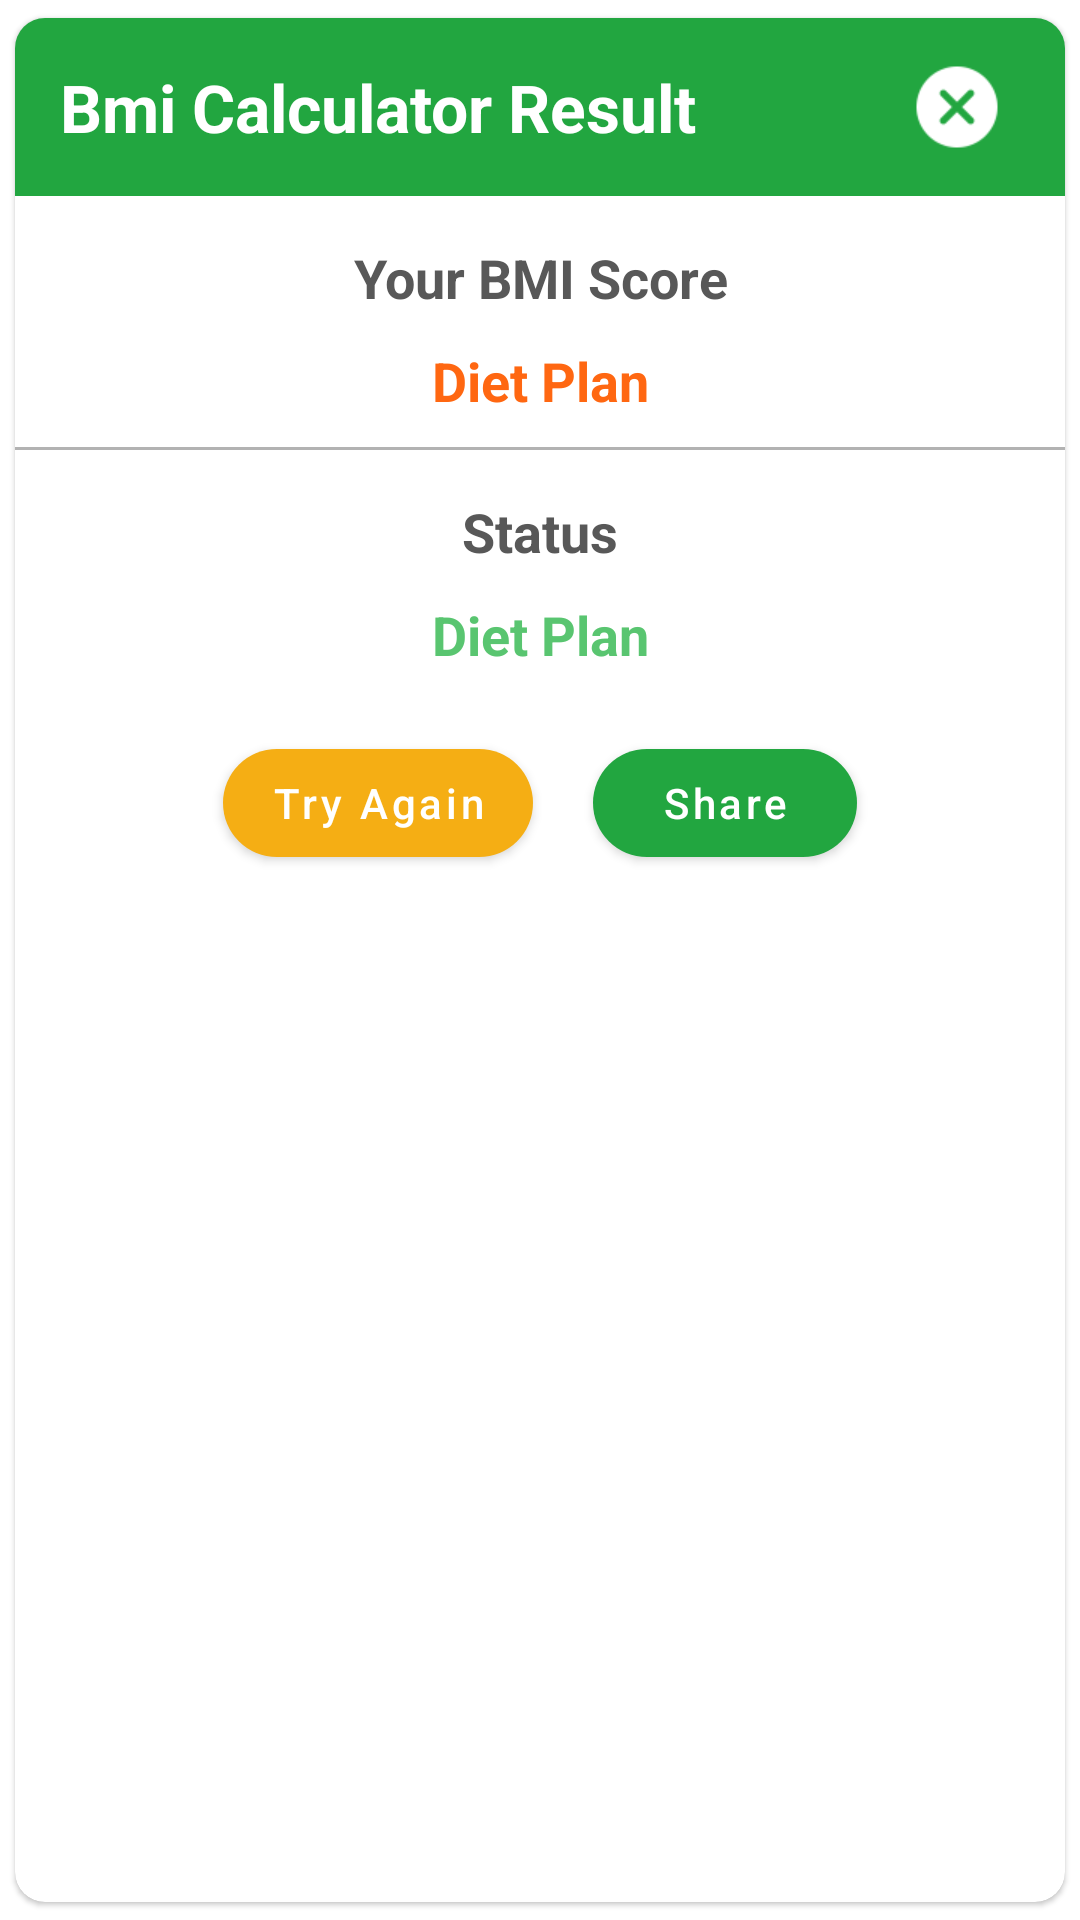

Screen size 1080x1920. Icon name, then its box in pixels as [left=x1, top=y1, right=x2, bottom=y2]:
close: [left=916, top=66, right=998, bottom=148]
